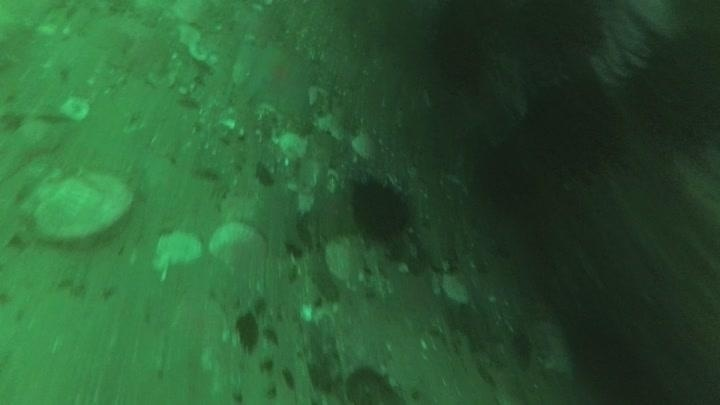echinus: (617, 17, 720, 161), (518, 78, 627, 184), (510, 1, 608, 67), (346, 174, 416, 245)
scallop: (21, 166, 137, 245), (206, 221, 270, 281), (321, 232, 375, 292)
starfish: (236, 36, 318, 119)
